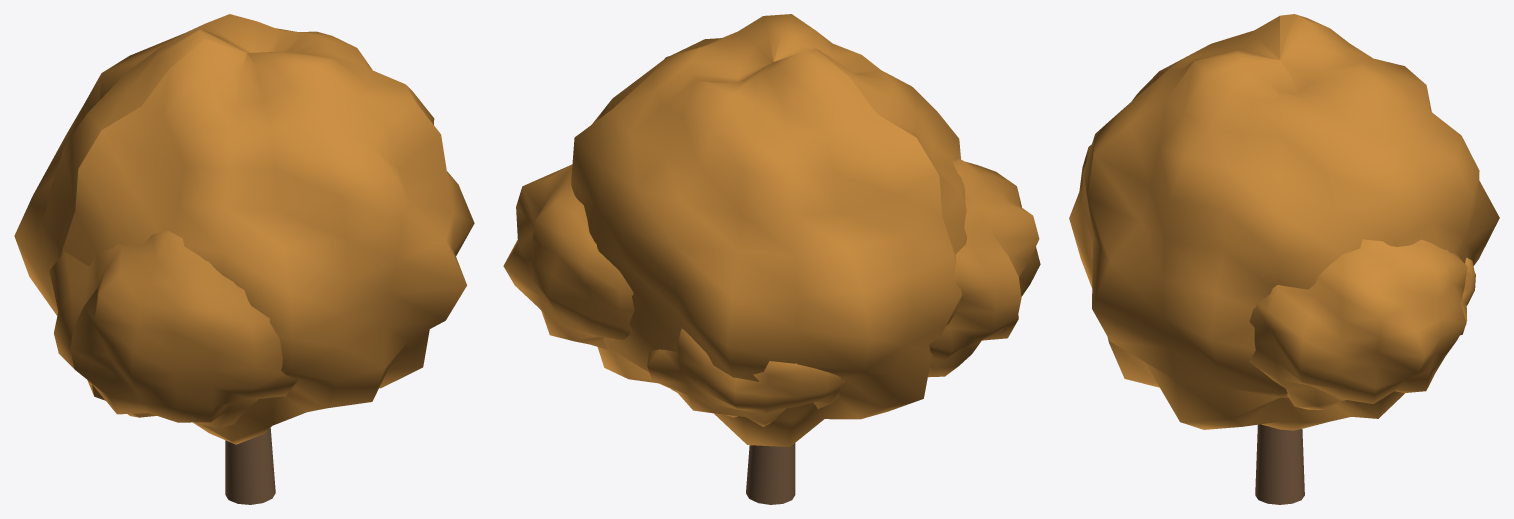
The model's file is mezalmacska-osz.glb.
3 views of the same model, side by side, from view 1: azimuth 30°, elevation 25°; view 2: azimuth 150°, elevation 25°; view 3: azimuth 270°, elevation 25° (orthographic). The views are drawn at different scales.
Visible parts, largest first — view 1: korona-1, korona-2, torzs; view 2: korona-1, korona-3, korona-2, korona-5, torzs; view 3: korona-1, korona-3, torzs, korona-5.
Part boxes in pixels (<box>): korona-1: <box>14,14,474,444</box>; korona-2: <box>49,231,297,428</box>; torzs: <box>225,428,275,504</box>; korona-1: <box>571,14,967,447</box>; korona-3: <box>503,164,634,349</box>; korona-2: <box>928,157,1040,377</box>; korona-5: <box>647,329,845,426</box>; torzs: <box>746,443,795,504</box>; korona-1: <box>1069,14,1499,430</box>; korona-3: <box>1249,239,1467,409</box>; torzs: <box>1255,424,1304,504</box>; korona-5: <box>1460,258,1475,335</box>.
Size of the model in its own units: 4.13 by 4.3 by 3.64.
